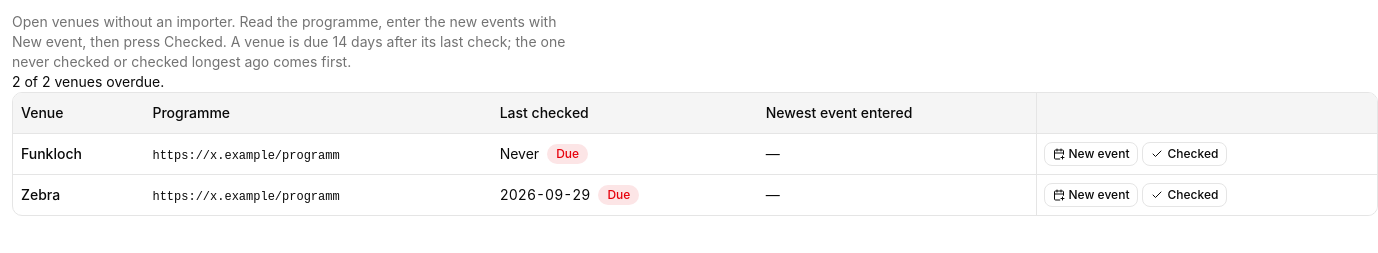
Test case: ManualVenuesView › Checked PUTs the check, and the row moves to the end without its Due badge
What coordinates should you click on to do the following:
click the button with test id "checked"
I would click on:
 (1185, 154)
Its box is left=1142, top=142, right=1227, bottom=166.
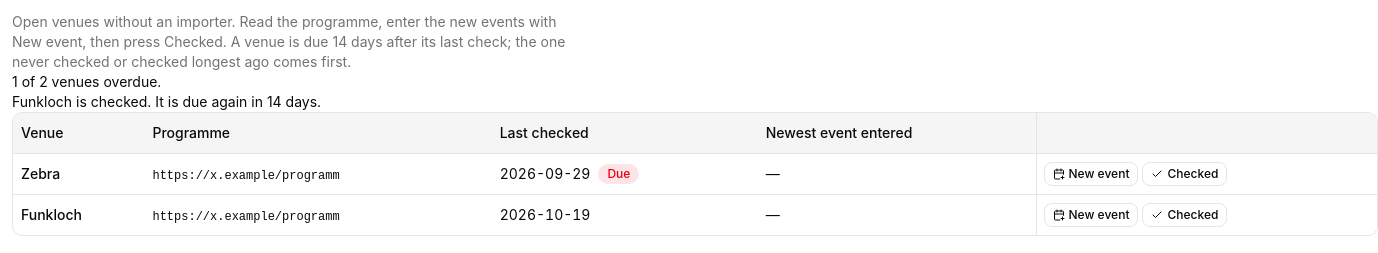
Result: the message "Funkloch is checked. It is due again in 14 days." is shown at left=12, top=93, right=321, bottom=110
